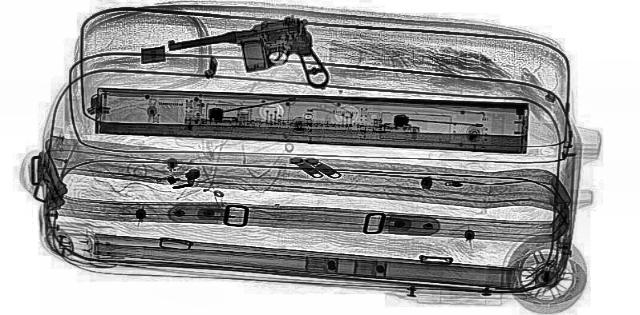Gun: (157, 12, 357, 106)
